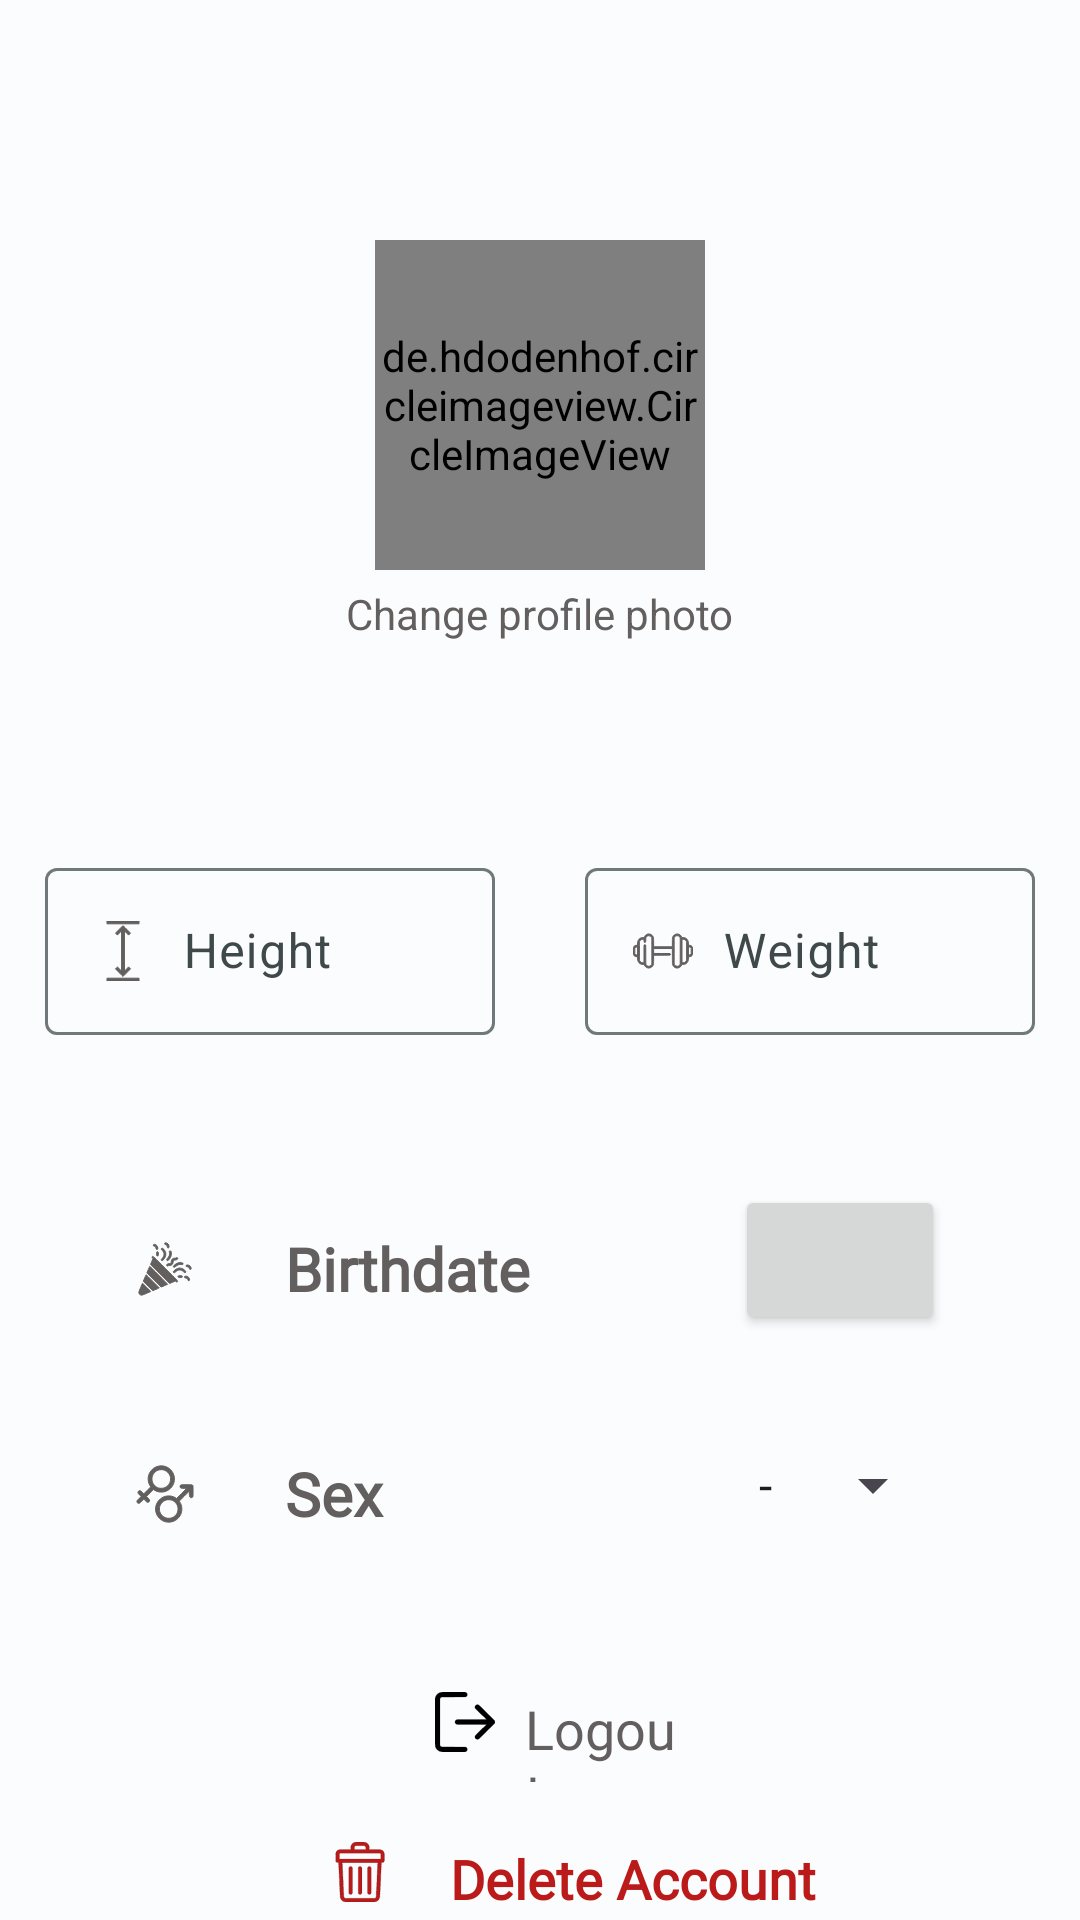

Screen size 1080 × 1920. Icon name, then its box in pixels as (x1, y1, x2, y2):
delete person: (335, 1842, 385, 1902)
